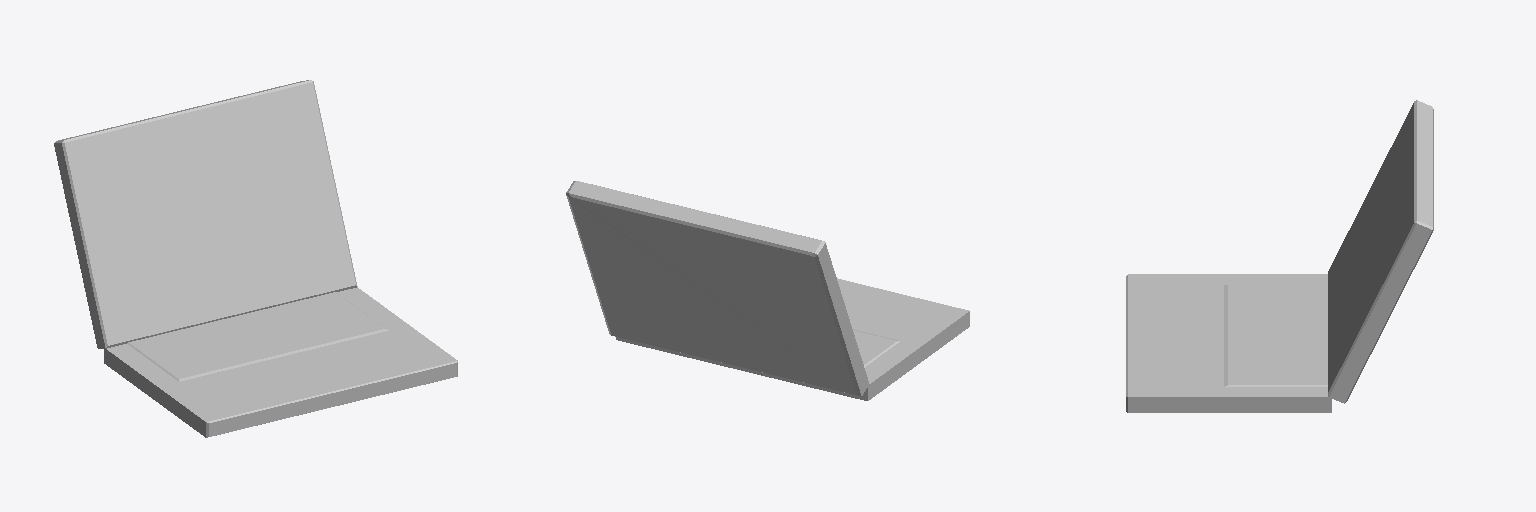
The model's file is REOB Alyssa computer.obj.
3 views of the same model, side by side, from view 1: azimuth 30°, elevation 25°; view 2: azimuth 150°, elevation 25°; view 3: azimuth 270°, elevation 25° (orthographic).
Parts seen in each view (by area): view 1: Object.000_Mesh.000; view 2: Object.000_Mesh.000; view 3: Object.000_Mesh.000.
Boxes of the visible parts, x1,y1,x2,y2 form: Object.000_Mesh.000: [54, 80, 457, 437]; Object.000_Mesh.000: [566, 181, 969, 400]; Object.000_Mesh.000: [1126, 100, 1433, 412].
Bounding box in the file's own units: 0.3798 × 0.2753 × 0.4019.